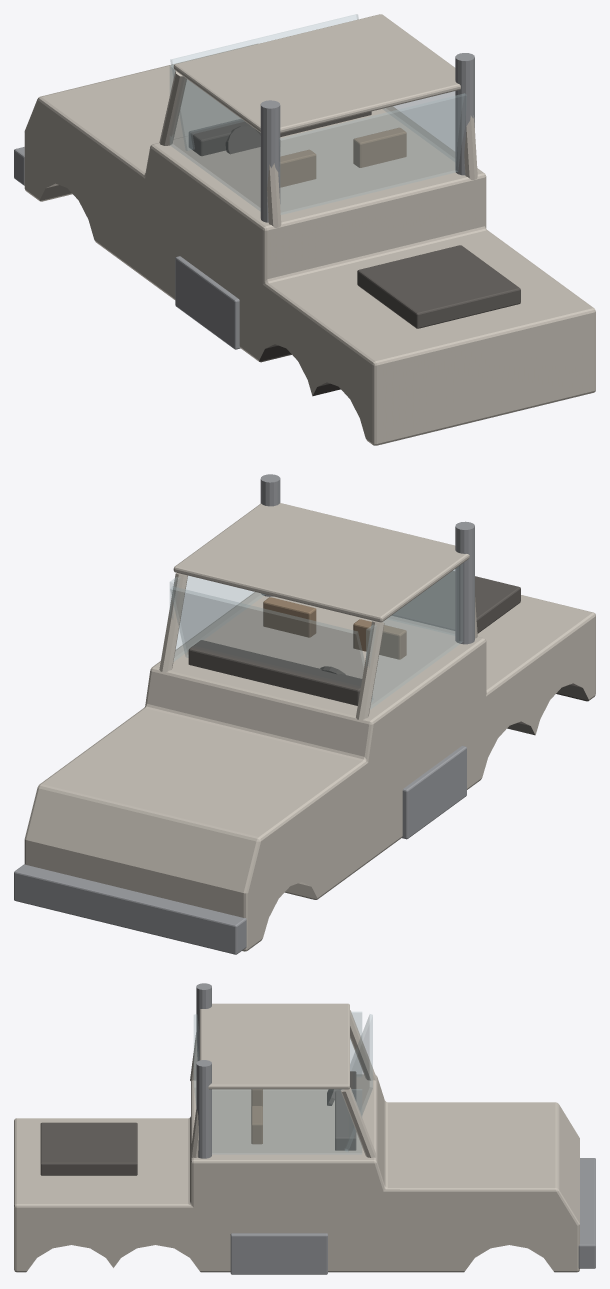
The model's file is semi.glb.
3 views of the same model, one above another, from view 1: azimuth 30°, elevation 25°; view 2: azimuth 150°, elevation 25°; view 3: azimuth 270°, elevation 25° (orthographic). The views are drawn at different scales.
Visible parts, largest first — view 1: body, roof, rear_glass, fifth_plate, side_glass_-1, fuel_l, ws_glass, side_glass_1, stack_l, stack_r, seat_back_1, dash (+5 smaller); view 2: body, roof, ws_glass, bumper_f, side_glass_-1, dash, side_glass_1, fifth_plate, fuel_l, rear_glass, stack_l, seat_back_1 (+4 smaller); view 3: body, roof, side_glass_1, fifth_plate, fuel_r, bumper_f, ws_glass, stack_r, dash, a_pillar_1, a_pillar_-1, stack_l (+2 smaller).
Part boxes in pixels (x1=…): body: x1=24, y1=43, x2=595, y2=445; roof: x1=173, y1=14, x2=460, y2=133; rear_glass: x1=279, y1=93, x2=466, y2=214; fifth_plate: x1=357, y1=245, x2=520, y2=328; side_glass_-1: x1=170, y1=65, x2=260, y2=210; fuel_l: x1=175, y1=256, x2=240, y2=349; ws_glass: x1=170, y1=14, x2=358, y2=150; side_glass_1: x1=383, y1=91, x2=454, y2=161; stack_l: x1=260, y1=100, x2=280, y2=222; stack_r: x1=455, y1=53, x2=474, y2=175; seat_back_1: x1=353, y1=127, x2=406, y2=167; dash: x1=189, y1=111, x2=371, y2=155; body: x1=24, y1=592, x2=595, y2=951; roof: x1=173, y1=503, x2=469, y2=622; ws_glass: x1=170, y1=586, x2=372, y2=701; bumper_f: x1=14, y1=864, x2=246, y2=954; side_glass_-1: x1=366, y1=564, x2=462, y2=709; dash: x1=188, y1=640, x2=362, y2=705; side_glass_1: x1=170, y1=576, x2=265, y2=661; fifth_plate: x1=392, y1=571, x2=520, y2=633; fuel_l: x1=402, y1=745, x2=466, y2=839; rear_glass: x1=388, y1=569, x2=454, y2=635; stack_l: x1=455, y1=521, x2=474, y2=644; seat_back_1: x1=263, y1=597, x2=316, y2=637; body: x1=14, y1=1074, x2=579, y2=1272; roof: x1=199, y1=1003, x2=349, y2=1089; side_glass_1: x1=212, y1=1089, x2=361, y2=1154; fifth_plate: x1=40, y1=1122, x2=137, y2=1175; fuel_r: x1=230, y1=1233, x2=327, y2=1274; bumper_f: x1=578, y1=1158, x2=595, y2=1268; ws_glass: x1=345, y1=1014, x2=372, y2=1151; stack_r: x1=196, y1=1060, x2=211, y2=1158; dash: x1=335, y1=1071, x2=356, y2=1150; a_pillar_1: x1=341, y1=1087, x2=376, y2=1157; a_pillar_-1: x1=350, y1=1010, x2=376, y2=1080; stack_l: x1=196, y1=983, x2=211, y2=1060.
Bounding box in the file's own units: 2.45 × 2.55 × 6.58.
